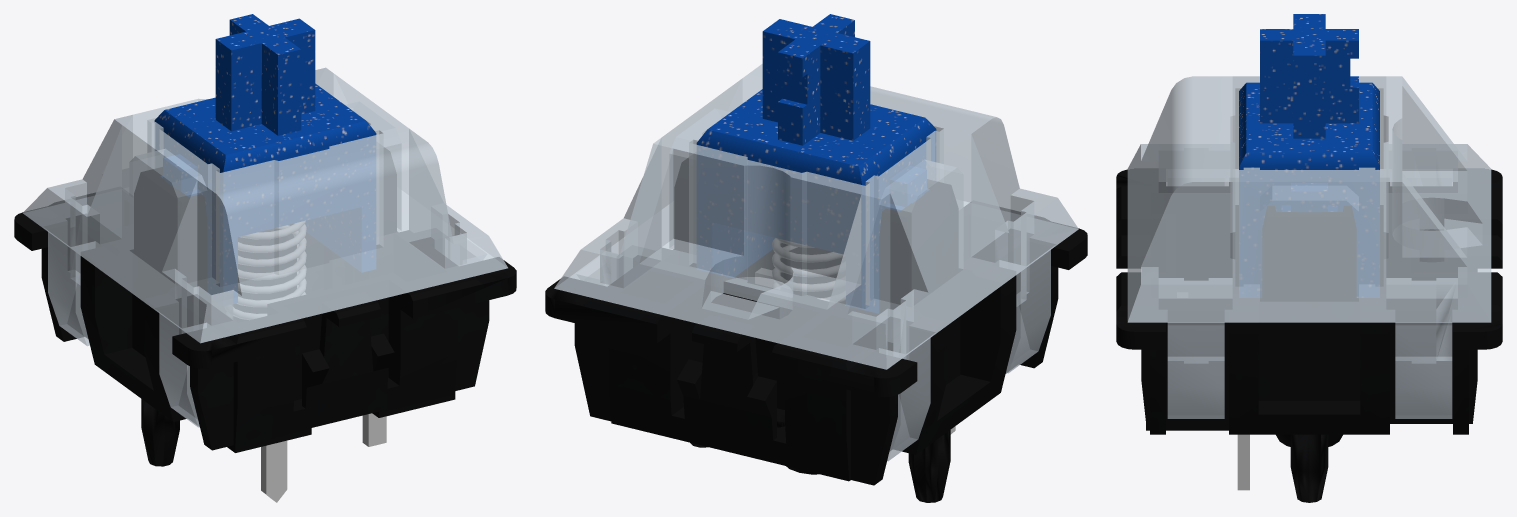
Rendered from switch.glb.
3 renders of one model, left to right at view 1: azimuth 30°, elevation 25°; view 2: azimuth 150°, elevation 25°; view 3: azimuth 270°, elevation 25°, orthographic. The views are drawn at different scales.
Visible parts, largest first — view 1: Low Bottom_Low Bottom_0 - Web, Low Top_Low Top_0 - Web, Low Switch_Gray Plastic_0 - Web, Low Spring_Metal_0 - Web, Low LED_Metal_0.001 - Web, Low LED_Metal_0.011 - Web; view 2: Low Bottom_Low Bottom_0 - Web, Low Top_Low Top_0 - Web, Low Switch_Gray Plastic_0 - Web, Low Spring_Metal_0 - Web; view 3: Low Top_Low Top_0 - Web, Low Bottom_Low Bottom_0 - Web, Low Switch_Gray Plastic_0 - Web, Low LED_Metal_0.011 - Web.
Boxes of the visible parts, box(x1,y1,x2,y2) form: Low Bottom_Low Bottom_0 - Web: box(14, 147, 516, 466); Low Top_Low Top_0 - Web: box(23, 67, 507, 427); Low Switch_Gray Plastic_0 - Web: box(154, 14, 376, 303); Low Spring_Metal_0 - Web: box(233, 221, 305, 319); Low LED_Metal_0.001 - Web: box(261, 440, 287, 502); Low LED_Metal_0.011 - Web: box(362, 413, 386, 446); Low Bottom_Low Bottom_0 - Web: box(545, 158, 1087, 502); Low Top_Low Top_0 - Web: box(554, 64, 1078, 461); Low Switch_Gray Plastic_0 - Web: box(696, 14, 936, 313); Low Spring_Metal_0 - Web: box(772, 238, 845, 301); Low Top_Low Top_0 - Web: box(1127, 76, 1491, 418); Low Bottom_Low Bottom_0 - Web: box(1116, 169, 1502, 502); Low Switch_Gray Plastic_0 - Web: box(1239, 14, 1379, 297); Low LED_Metal_0.011 - Web: box(1237, 434, 1249, 490).
Bounding box in the file's own units: 1.68 × 2 × 1.68.
4 materials, 2 textured.
